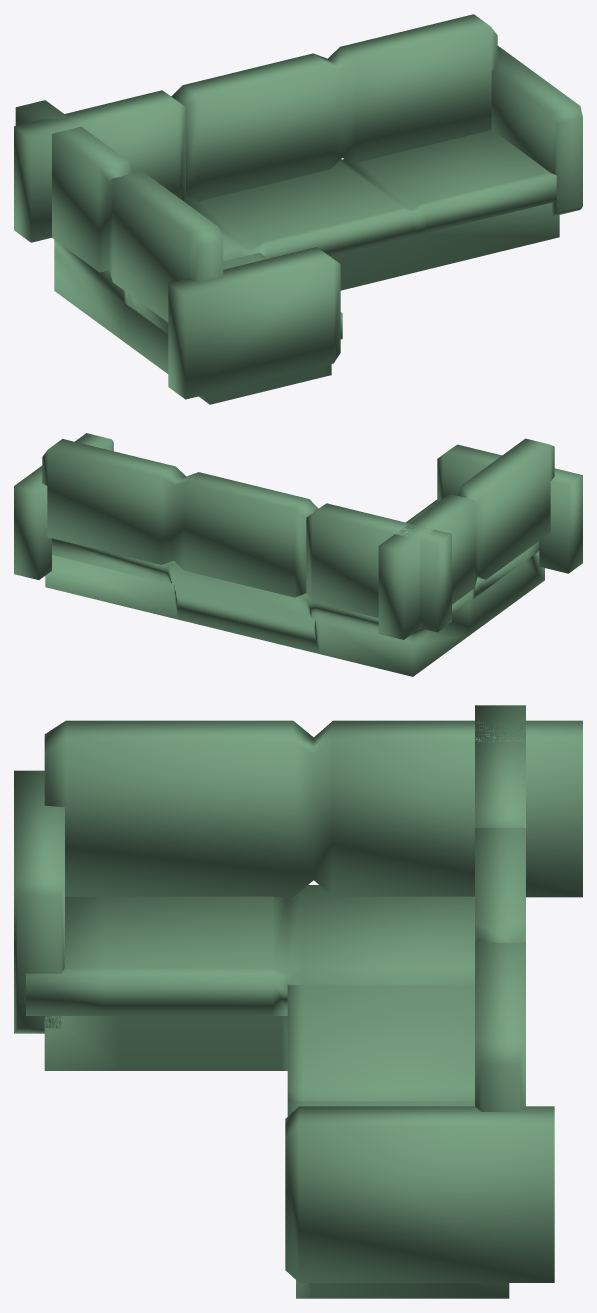
Rendered from couch.fbx.
3 views of the same model, one above another, from view 1: azimuth 30°, elevation 25°; view 2: azimuth 150°, elevation 25°; view 3: azimuth 270°, elevation 25° (orthographic). The views are drawn at different scales.
Visible parts, largest first — view 1: couch; view 2: couch; view 3: couch.
Part boxes in pixels (x1,y1,x2,y2): couch: [14, 14, 582, 404]; couch: [14, 433, 582, 676]; couch: [14, 705, 582, 1298].
Size of the model in its own units: 298 by 98.12 by 201.
